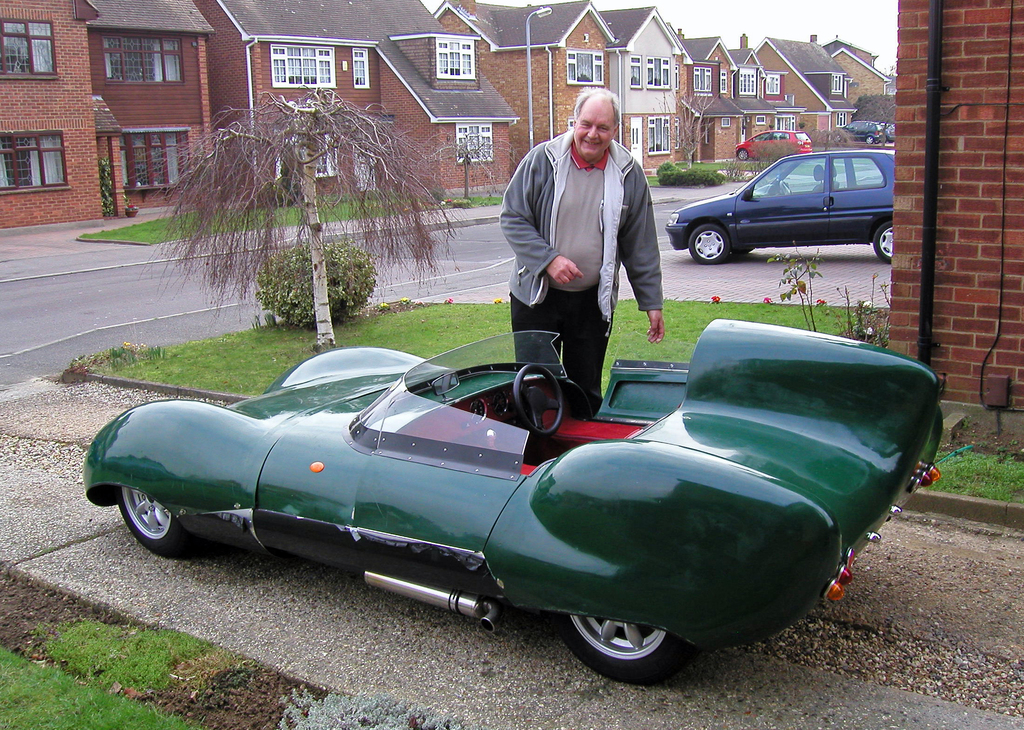Car: (106, 325, 926, 671), (666, 153, 897, 263), (737, 126, 814, 155), (823, 119, 883, 146), (882, 120, 893, 142)
